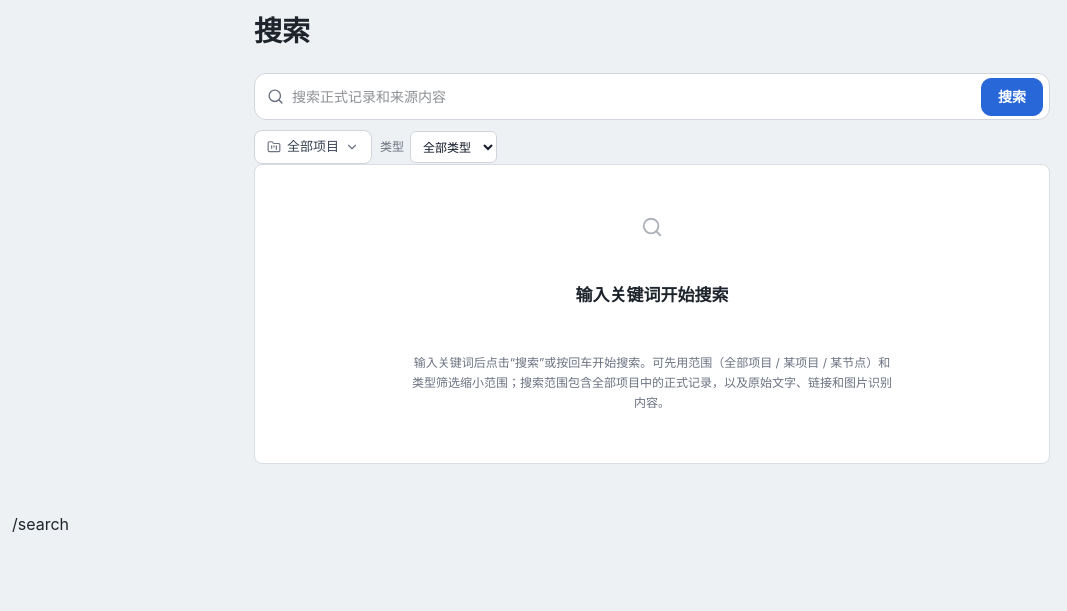
SearchPage › ignores Enter while the IME is composing
This screenshot has width=1067, height=611.
Type "xiwanji" into the field named "搜索关键词" at [632, 96], box x1=292 y1=74 x2=973 y2=119
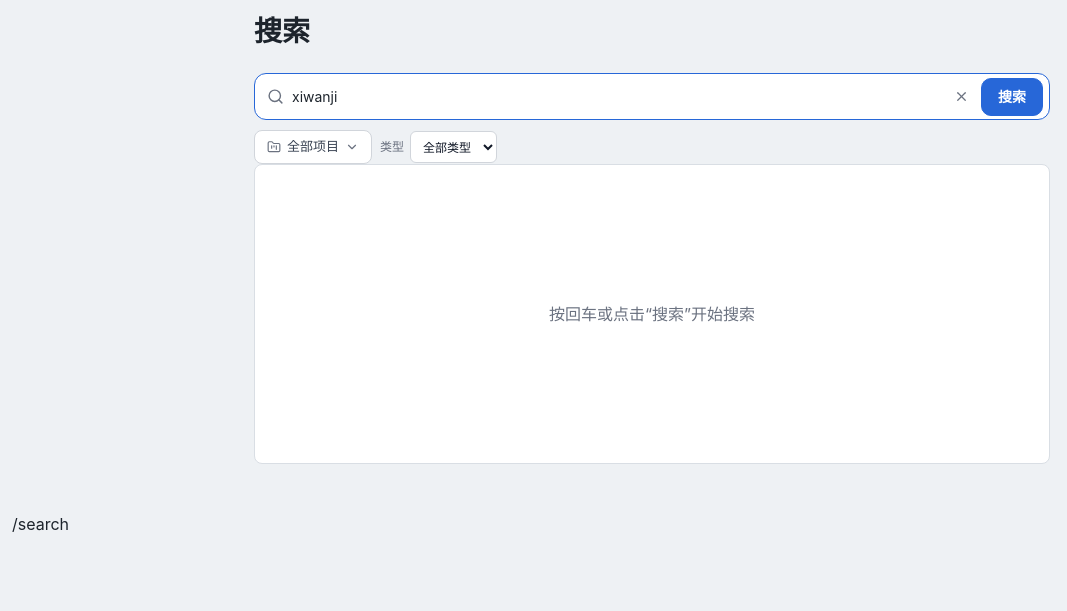
Press Enter in the field named "搜索关键词", box x1=292 y1=74 x2=942 y2=119
Press Enter in the field named "搜索关键词", box x1=292 y1=74 x2=942 y2=119
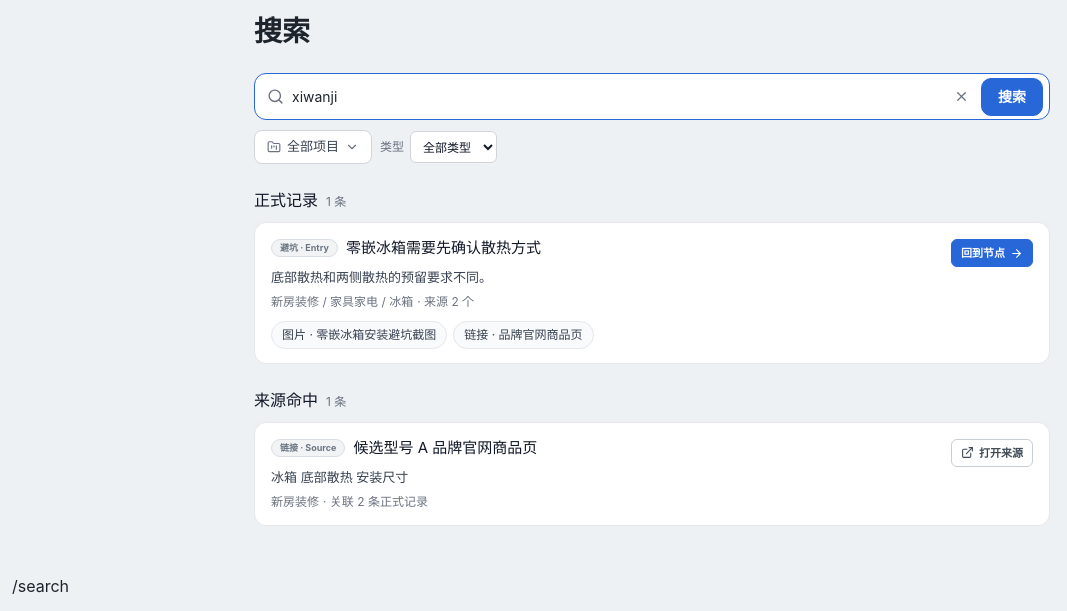
Result: the heading "零嵌冰箱需要先确认散热方式" is shown at x1=346 y1=237 x2=541 y2=259
